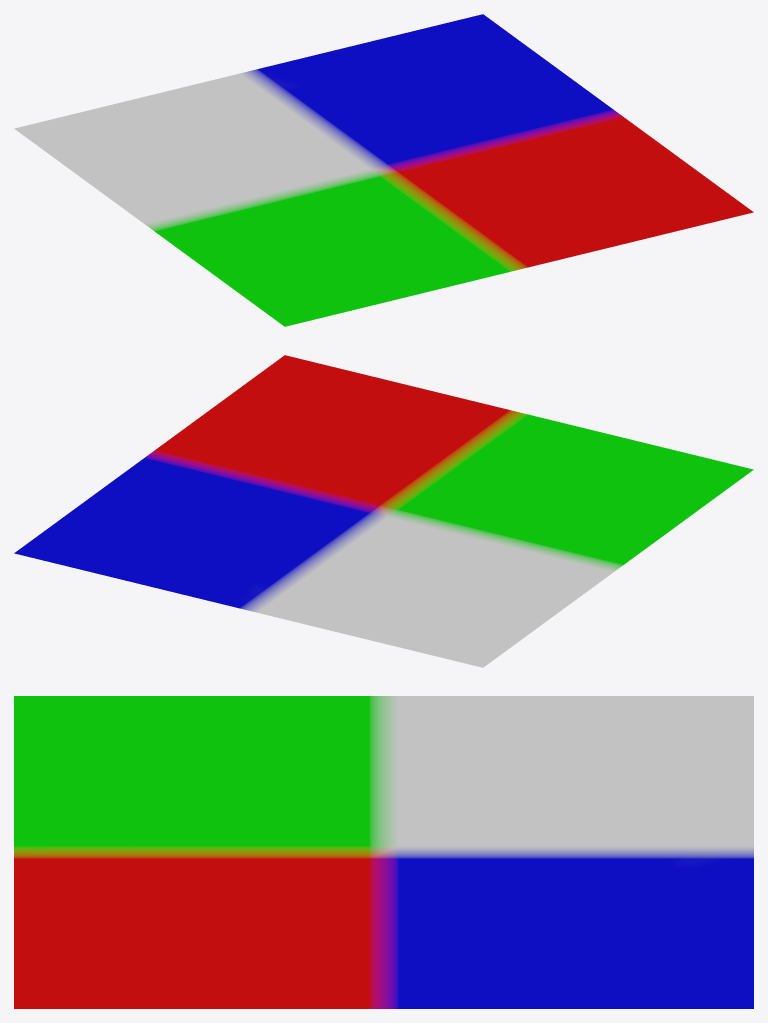
File: vertexColorPlane.fbx
The picture shows the model from 3 angles, top to bottom: view 1: azimuth 30°, elevation 25°; view 2: azimuth 150°, elevation 25°; view 3: azimuth 270°, elevation 25°; orthographic projection. The views are drawn at different scales.
Visible parts, largest first — view 1: VertexColorPalne; view 2: VertexColorPalne; view 3: VertexColorPalne.
Boxes of the visible parts, x1,y1,x2,y2 form: VertexColorPalne: (14, 14, 753, 326); VertexColorPalne: (14, 355, 753, 667); VertexColorPalne: (14, 696, 753, 1008).
Bounding box in the file's own units: 40 × 0 × 40.
